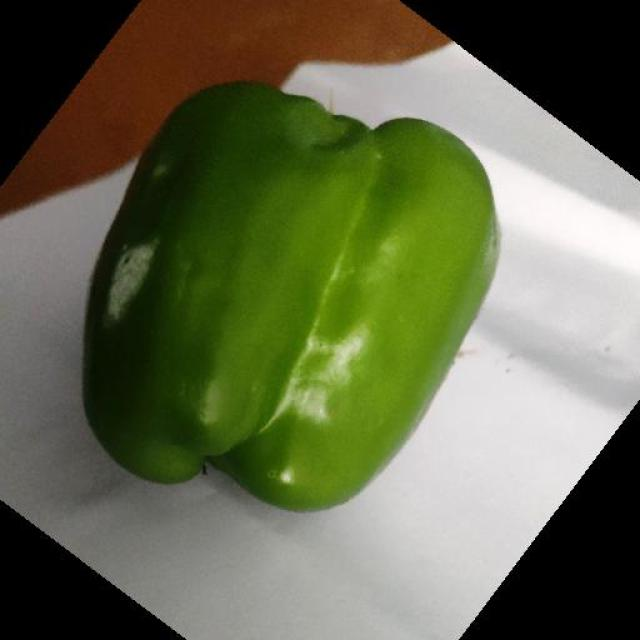Stale_Capsicum: (31, 137, 212, 431)
